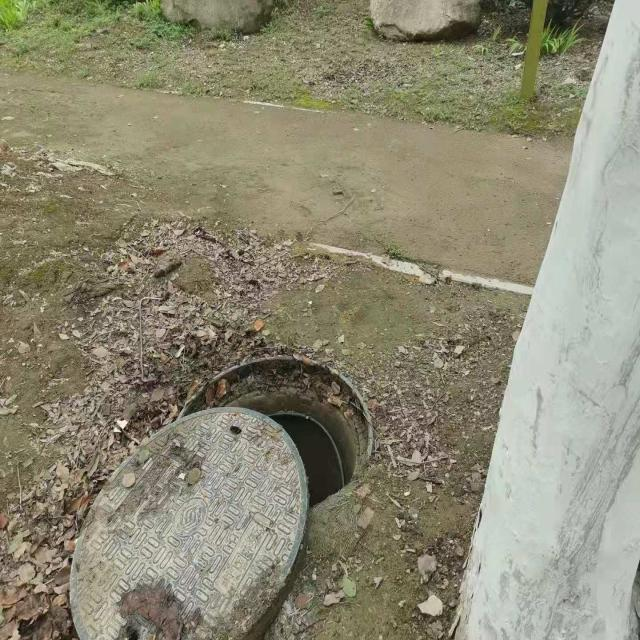Faulty: (68, 353, 374, 640)
